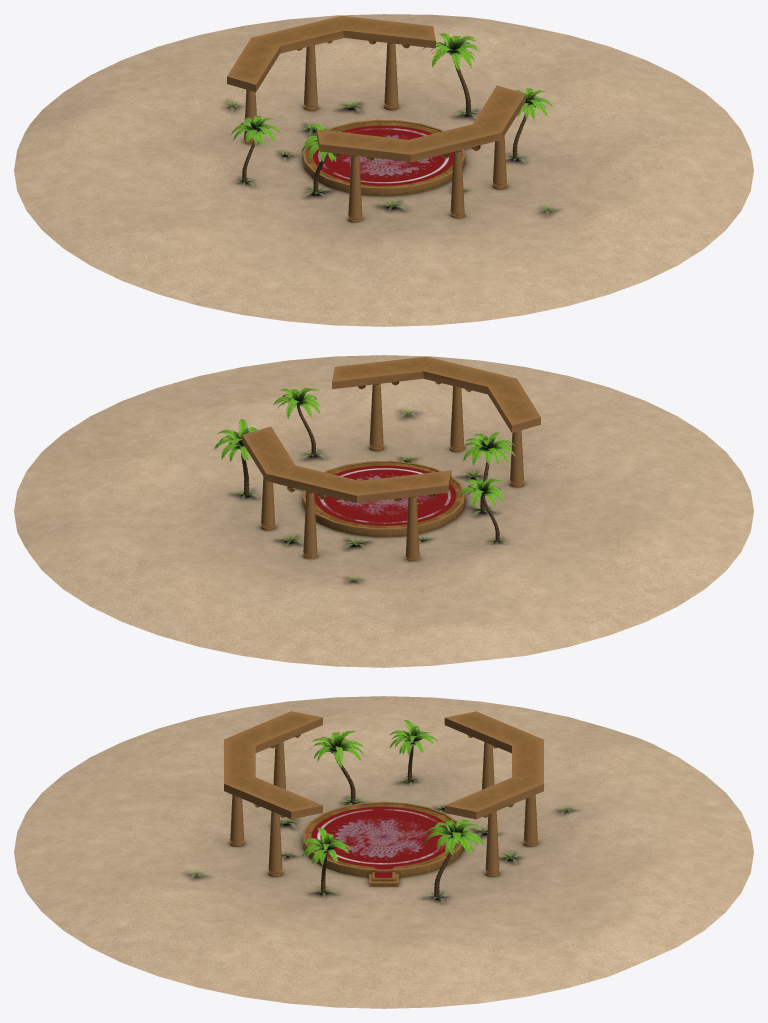
Rendered from Sumo Arena.glb.
The picture shows the model from 3 angles, top to bottom: view 1: azimuth 30°, elevation 25°; view 2: azimuth 150°, elevation 25°; view 3: azimuth 270°, elevation 25°; orthographic projection.
Visible parts, largest first — view 1: Main_Base1, Floor, pCube5, pCube6, Leaves (×3), P_6 (×2), P_4 (×2), P_3; view 2: Main_Base1, Floor, pCube6, pCube5, Leaves (×4), P_6 (×2), P_3 (×2), P_4 (×2); view 3: Main_Base1, Floor, pCube6, pCube5, Leaves (×4), P_4 (×2), P_6 (×2).
Part boxes in pixels (x1,y1,x2,y2): Main_Base1: (14, 14, 753, 326); Floor: (302, 119, 465, 196); pCube5: (317, 85, 525, 161); pCube6: (227, 15, 435, 92); Leaves (×3): (231, 33, 553, 145); P_6 (×2): (297, 41, 480, 218); P_4 (×2): (368, 40, 507, 189); P_3: (332, 153, 374, 222); Main_Base1: (14, 355, 753, 667); Floor: (302, 460, 465, 537); pCube6: (242, 426, 451, 503); pCube5: (332, 356, 540, 432); Leaves (×4): (213, 387, 515, 507); P_6 (×2): (287, 381, 471, 558); P_3 (×2): (393, 430, 524, 561); P_4 (×2): (260, 381, 399, 530); Main_Base1: (14, 696, 753, 1008); Floor: (303, 801, 464, 877); pCube6: (444, 711, 543, 819); pCube5: (224, 711, 322, 819); Leaves (×4): (301, 720, 484, 865); P_4 (×2): (254, 804, 513, 876); P_6 (×2): (229, 795, 538, 846).
Bounding box in the file's own units: 0.998 × 0.1299 × 0.998.
2 materials, 2 textured.
